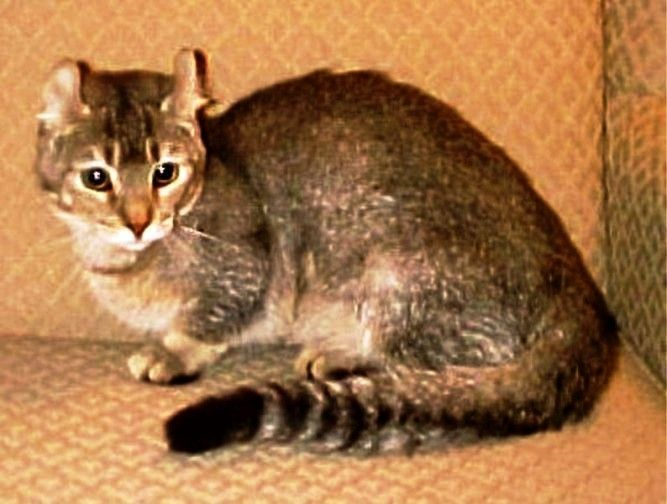Jaguarundi: (27, 43, 633, 457)
